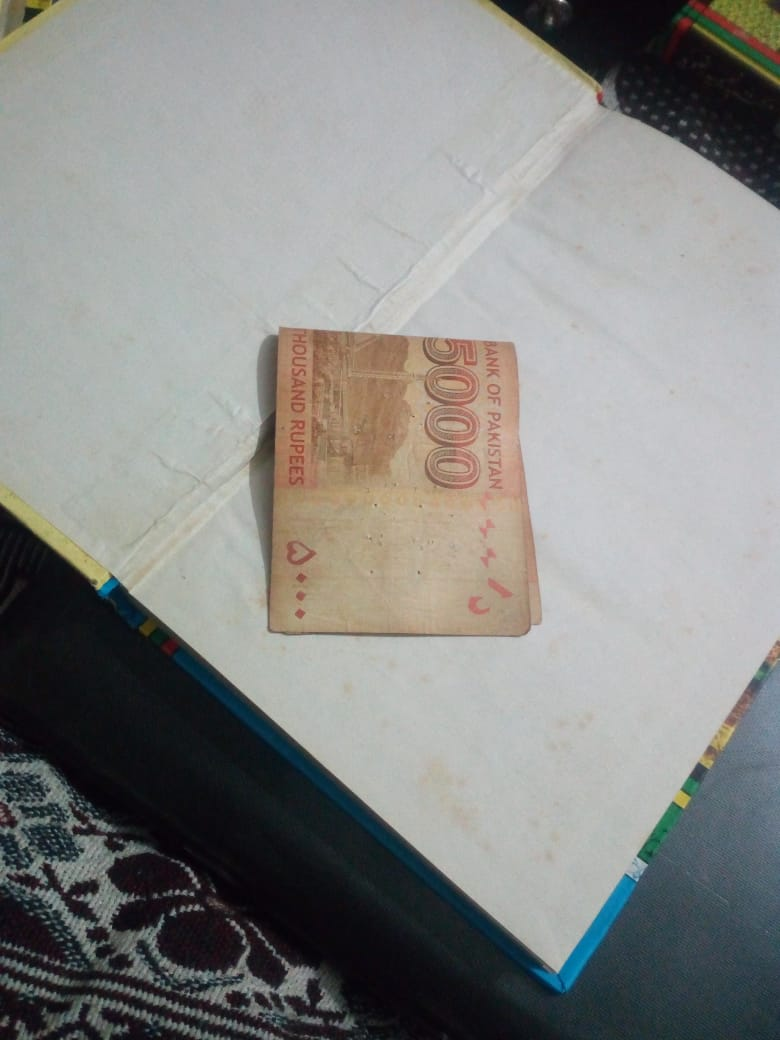5000 rupee: (257, 314, 545, 642)
